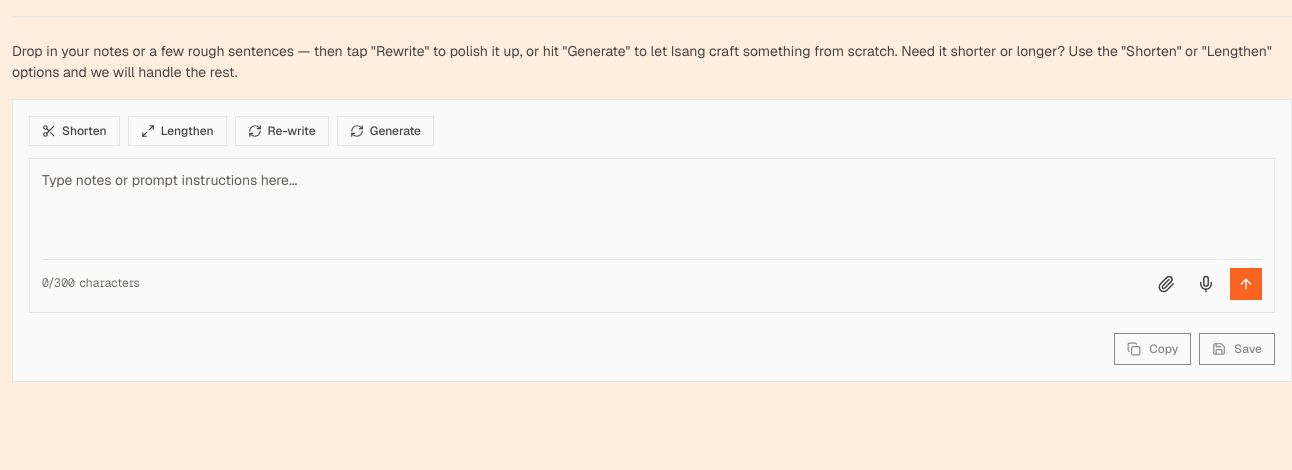
Test: SkillPlayground Component › handles API error or network failure gracefully
Type "Test error state" into the text box with placeholder "Type notes or prompt instructions here..." at (652, 211), box [42,171,1262,251]
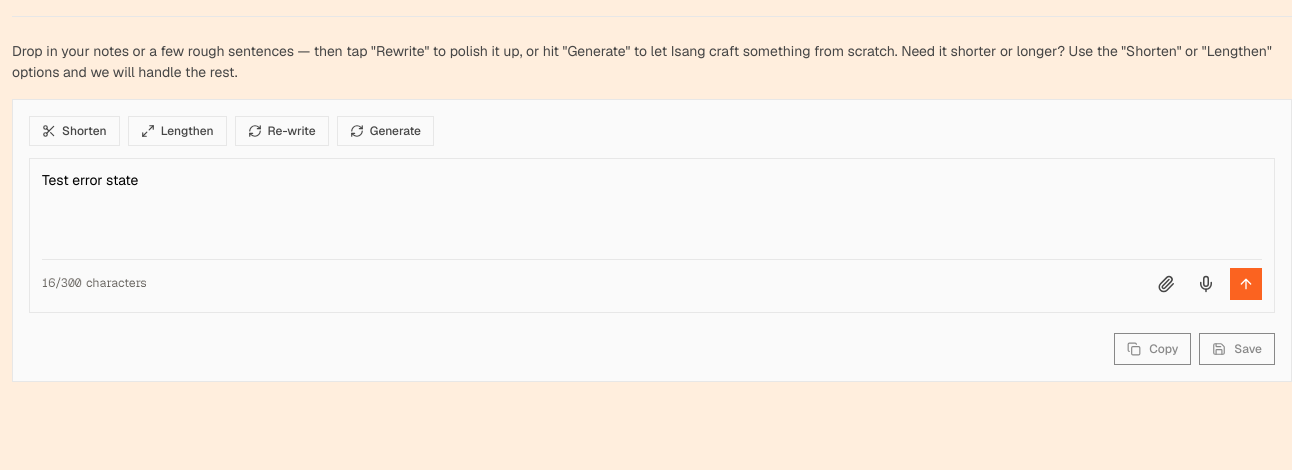
Click the button named "submit" at (1246, 284), box [1230,268,1262,300]
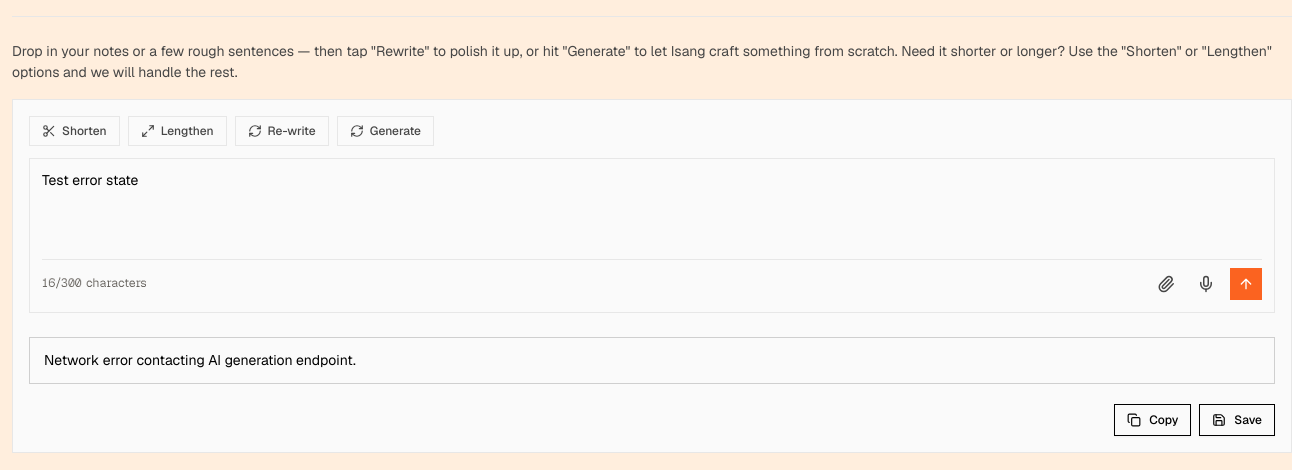
Expected: the text "Network error contacting AI generation endpoint." is shown, [44,351,356,369]
